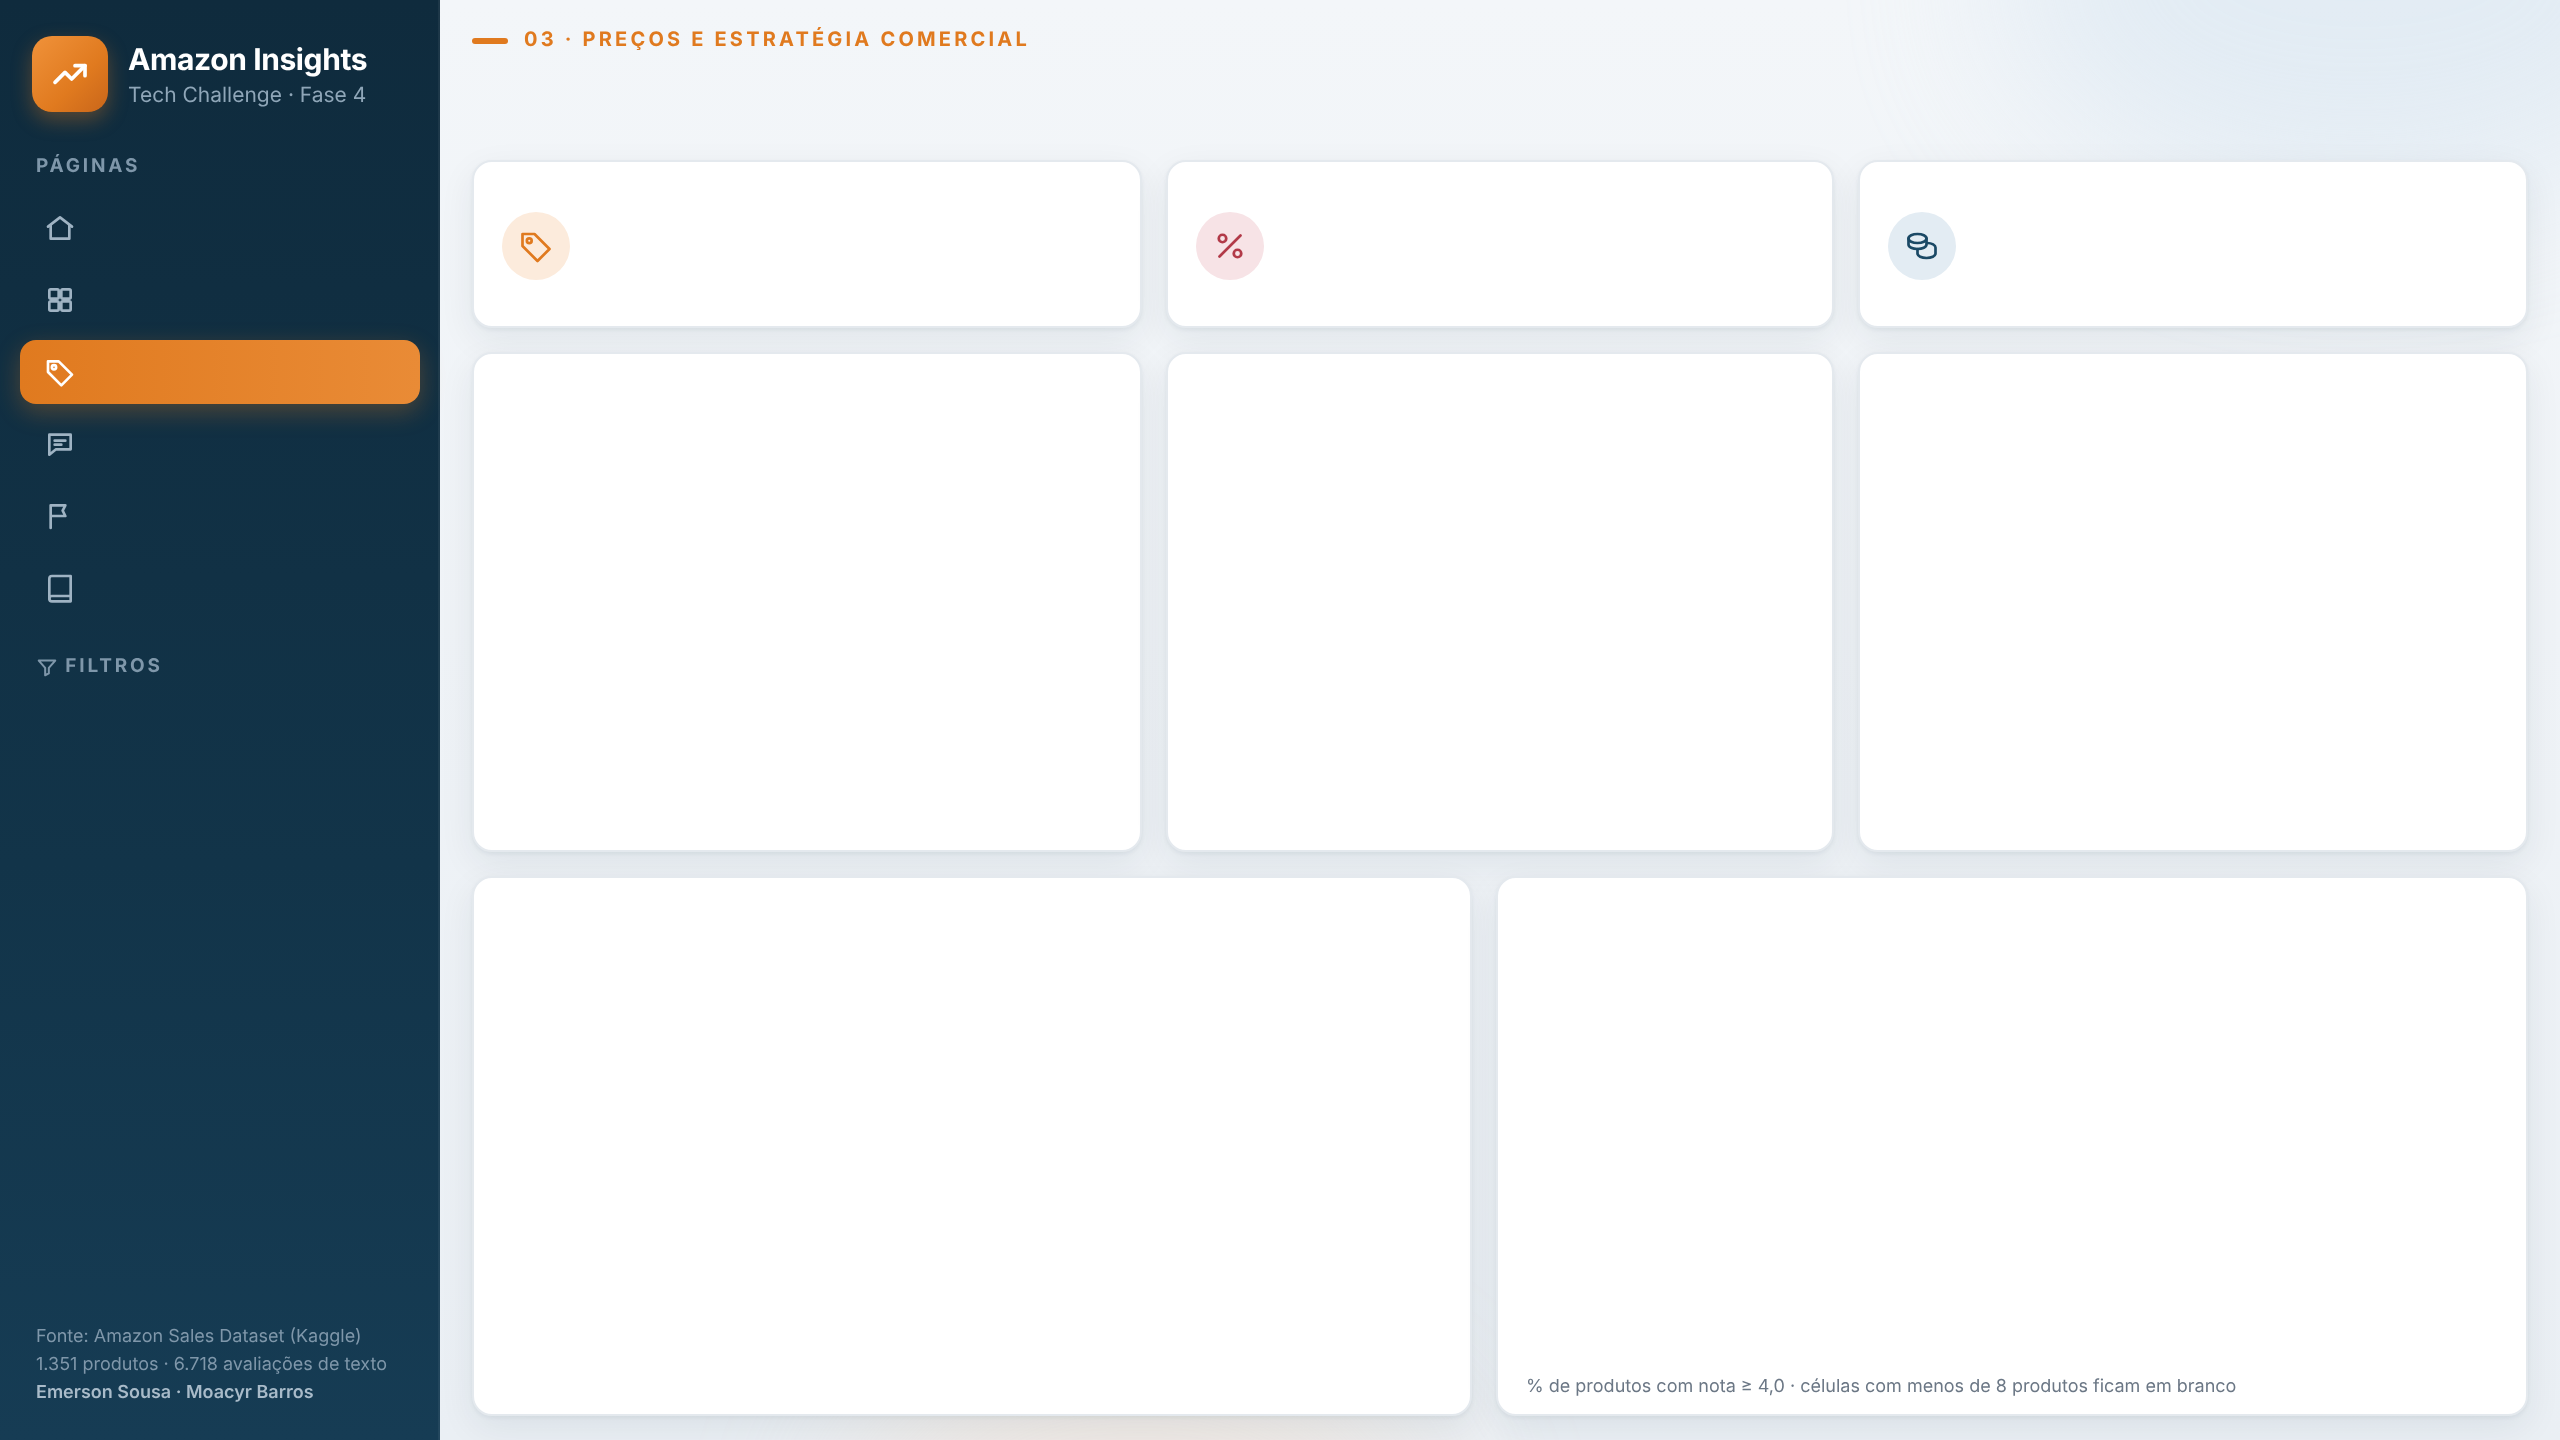

Layout of this report page (visuals, bound fields, positions):
{"tool":"powerbi","page":{"name":"3. Preços","canvas":[1280,720],"ordinal":2},"visuals":[{"type":"textbox","box":[228,26,1044,44],"z":0},{"type":"slicer","fields":{"Values":["fProdutos.categoria"]},"box":[12,350,196,56],"z":1000},{"type":"slicer","fields":{"Values":["fProdutos.subcategoria"]},"box":[12,412,196,56],"z":2000},{"type":"slicer","fields":{"Values":["fProdutos.faixa_preco"]},"box":[12,474,196,56],"z":3000},{"type":"card","fields":{"Values":["_Medidas.Desconto médio"]},"box":[290,84,274.7,76],"z":4000},{"type":"card","fields":{"Values":["_Medidas.% com desconto acima de 60%"]},"box":[636.7,84,274.7,76],"z":5000},{"type":"card","fields":{"Values":["_Medidas.Economia média"]},"box":[983.3,84,274.7,76],"z":6000},{"type":"clusteredColumnChart","fields":{"Category":["fProdutos.faixa_desconto"],"Y":["_Medidas.% nota ≥ 4,0"]},"box":[236,176,334.7,250],"z":7000},{"type":"clusteredColumnChart","title":"Mais desconto não traz mais avaliações (mediana por produto)","fields":{"Category":["fProdutos.faixa_desconto"],"Y":["_Medidas.Avaliações por produto (mediana)"]},"box":[582.7,176,334.7,250],"z":8000},{"type":"clusteredColumnChart","title":"Os itens mais baratos são os que mais descontam","fields":{"Category":["fProdutos.faixa_preco"],"Y":["_Medidas.Desconto médio"]},"box":[929.3,176,334.7,250],"z":9000},{"type":"lineChart","title":"Em Casa e Cozinha a queda da nota com o desconto é a mais forte","fields":{"Category":["fProdutos.faixa_desconto"],"Series":["fProdutos.categoria"],"Y":["_Medidas.% nota ≥ 4,0"]},"box":[236,438,500,270],"z":10000},{"type":"pivotTable","title":"Até ₹500, com mais de 80% de desconto só 44–52% dos produtos têm nota ≥ 4,0","fields":{"Columns":["fProdutos.faixa_desconto"],"Rows":["fProdutos.faixa_preco"],"Values":["_Medidas.% nota ≥ 4,0 (células com 8+ produtos)"]},"box":[748,438,516,254],"z":11000},{"type":"actionButton","box":[44,98,166,32],"z":12000},{"type":"actionButton","box":[44,134,166,32],"z":13000},{"type":"actionButton","box":[44,170,166,32],"z":14000},{"type":"actionButton","box":[44,206,166,32],"z":15000},{"type":"actionButton","box":[44,242,166,32],"z":16000},{"type":"actionButton","box":[44,278,166,32],"z":17000}]}

Visuals, with their boxes on the page's 1280x720 design canvas (x1, y1, x2, y2). These are canvas units, not pixel positions in the 2560x1440 screenshot, which may show the page scaled, cropped or inside an application window:
textbox: l=228, t=26, r=1272, b=70
slicer - fProdutos.categoria: l=12, t=350, r=208, b=406
slicer - fProdutos.subcategoria: l=12, t=412, r=208, b=468
slicer - fProdutos.faixa_preco: l=12, t=474, r=208, b=530
card - _Medidas.Desconto médio: l=290, t=84, r=565, b=160
card - _Medidas.% com desconto acima de 60%: l=637, t=84, r=911, b=160
card - _Medidas.Economia média: l=983, t=84, r=1258, b=160
clusteredColumnChart - fProdutos.faixa_desconto x _Medidas.% nota ≥ 4,0: l=236, t=176, r=571, b=426
"Mais desconto não traz mais avaliações (mediana por produto)" clusteredColumnChart: l=583, t=176, r=917, b=426
"Os itens mais baratos são os que mais descontam" clusteredColumnChart: l=929, t=176, r=1264, b=426
"Em Casa e Cozinha a queda da nota com o desconto é a mais forte" lineChart: l=236, t=438, r=736, b=708
"Até ₹500, com mais de 80% de desconto só 44–52% dos produtos têm nota ≥ 4,0" pivotTable: l=748, t=438, r=1264, b=692
actionButton: l=44, t=98, r=210, b=130
actionButton: l=44, t=134, r=210, b=166
actionButton: l=44, t=170, r=210, b=202
actionButton: l=44, t=206, r=210, b=238
actionButton: l=44, t=242, r=210, b=274
actionButton: l=44, t=278, r=210, b=310
